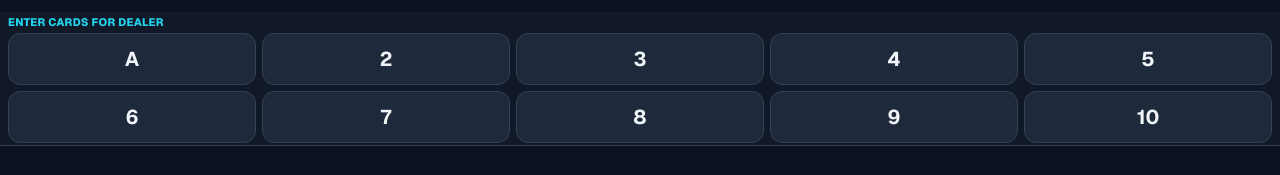
Test: CardEntryPad — blocked-state messaging explains WHY, never just goes dark › tapping a card while enabled still works end to end (the keypad itself is unaffected by the new messaging)
Click the button "A": (132,58) [8, 32, 256, 84]
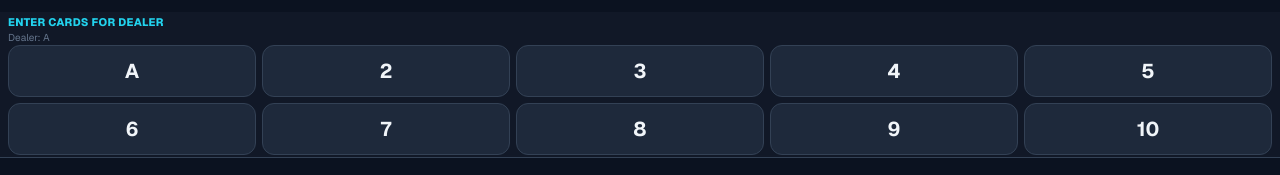
Now the text "Dealer: A" is shown, box [8, 30, 50, 44]
